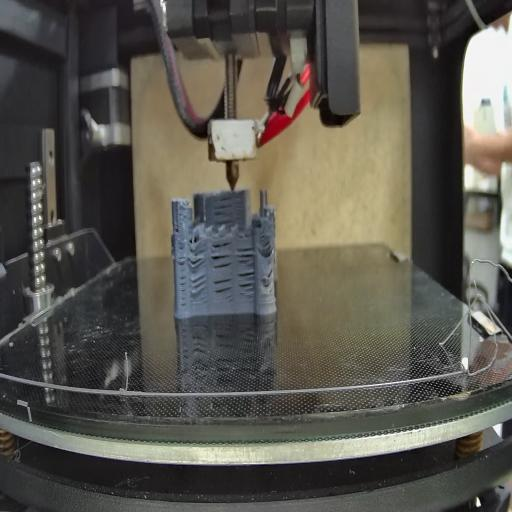cracks: (211, 195, 237, 226), (211, 238, 232, 268), (178, 240, 187, 308), (237, 270, 255, 298), (188, 243, 206, 268), (214, 277, 233, 300), (235, 246, 255, 265), (190, 273, 206, 296), (262, 236, 274, 254), (266, 265, 273, 282), (174, 218, 181, 233)
